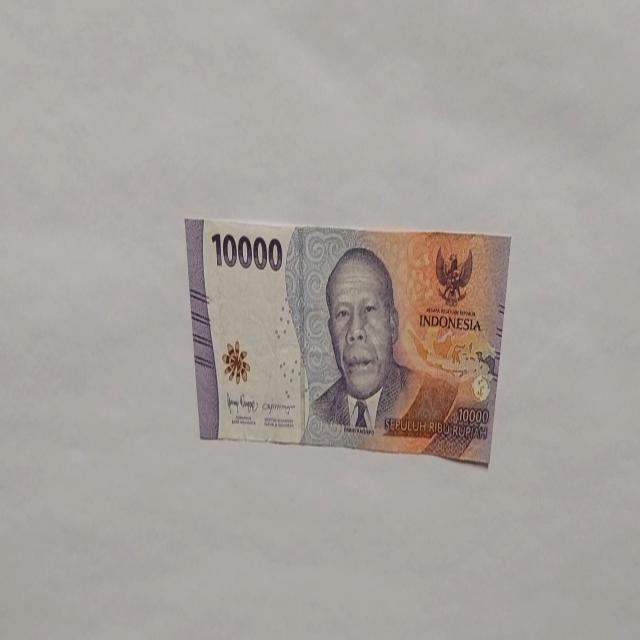sepuluh ribu rupiah: (184, 216, 512, 467), (297, 244, 458, 452)
